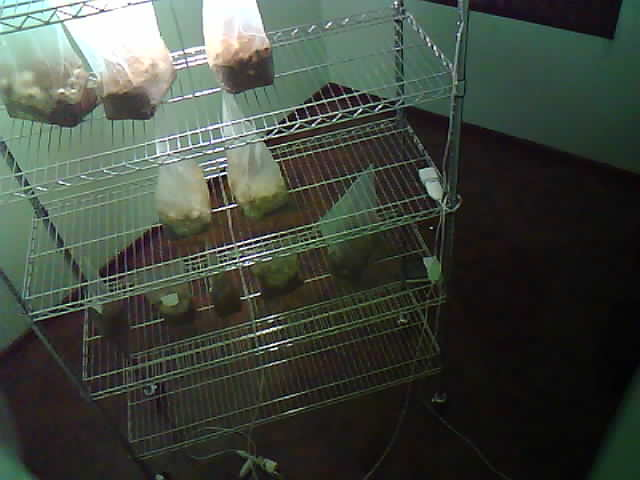bloco: (204, 95, 304, 222), (326, 163, 391, 292), (192, 2, 282, 90), (158, 118, 209, 246), (99, 47, 180, 115), (67, 263, 127, 344), (247, 240, 315, 309), (132, 264, 199, 326), (204, 254, 250, 317)
